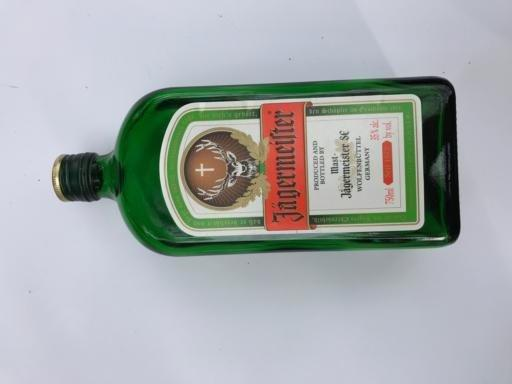botolkaca: (51, 75, 462, 256)
